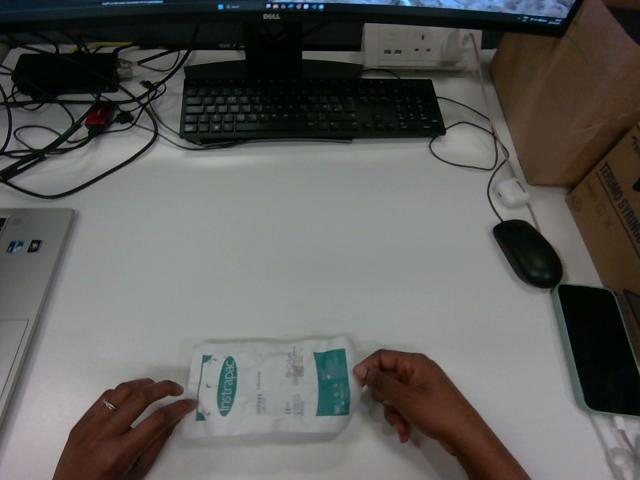gallipot: (185, 337, 360, 436)
